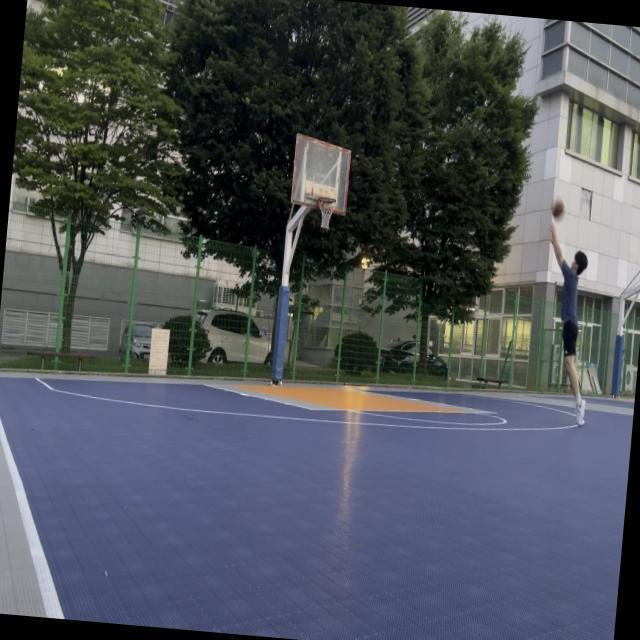Ball: (550, 196, 566, 222)
